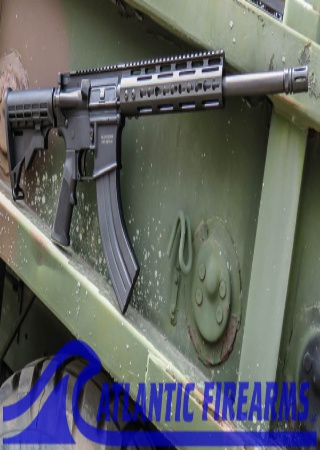rifle: (4, 49, 311, 313)
